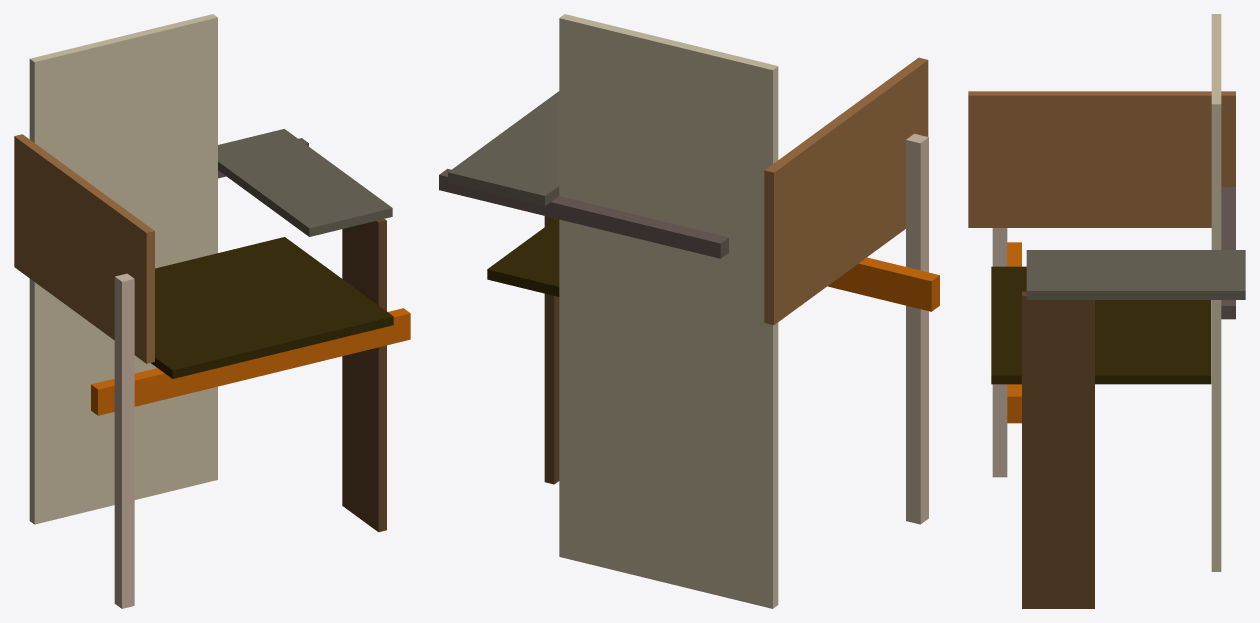
The model's file is 彦坂優斗 Ei.dae.
3 views of the same model, side by side, from view 1: azimuth 30°, elevation 25°; view 2: azimuth 150°, elevation 25°; view 3: azimuth 270°, elevation 25° (orthographic). The views are drawn at different scales.
Visible parts, largest first — view 1: group_2, group_8, group_1, group_6, group_5, group_0, group_3; view 2: group_2, group_1, group_0, group_5, group_4, group_3, group_8, group_6; view 3: group_1, group_6, group_8, group_5, group_2, group_0, group_4, group_3.
Part boxes in pixels (x1,y1,x2,y2): group_2: (29,14,217,524); group_8: (151,237,393,378); group_1: (14,134,154,363); group_6: (342,219,386,532); group_5: (218,129,392,236); group_0: (114,273,134,608); group_3: (91,308,410,415); group_2: (559,14,778,608); group_1: (764,57,928,324); group_0: (906,133,928,524); group_5: (448,91,559,205); group_4: (439,168,728,258); group_3: (827,257,939,311); group_8: (487,219,559,296); group_6: (544,216,559,484); group_1: (968,91,1235,227); group_6: (1022,291,1094,608); group_8: (991,266,1211,384); group_5: (1026,250,1245,299); group_2: (1211,14,1221,571); group_0: (992,228,1007,477); group_4: (1221,187,1235,319); group_3: (1007,242,1021,423).
Bounding box in the file's own units: 29.92 × 22.44 × 41.73.
